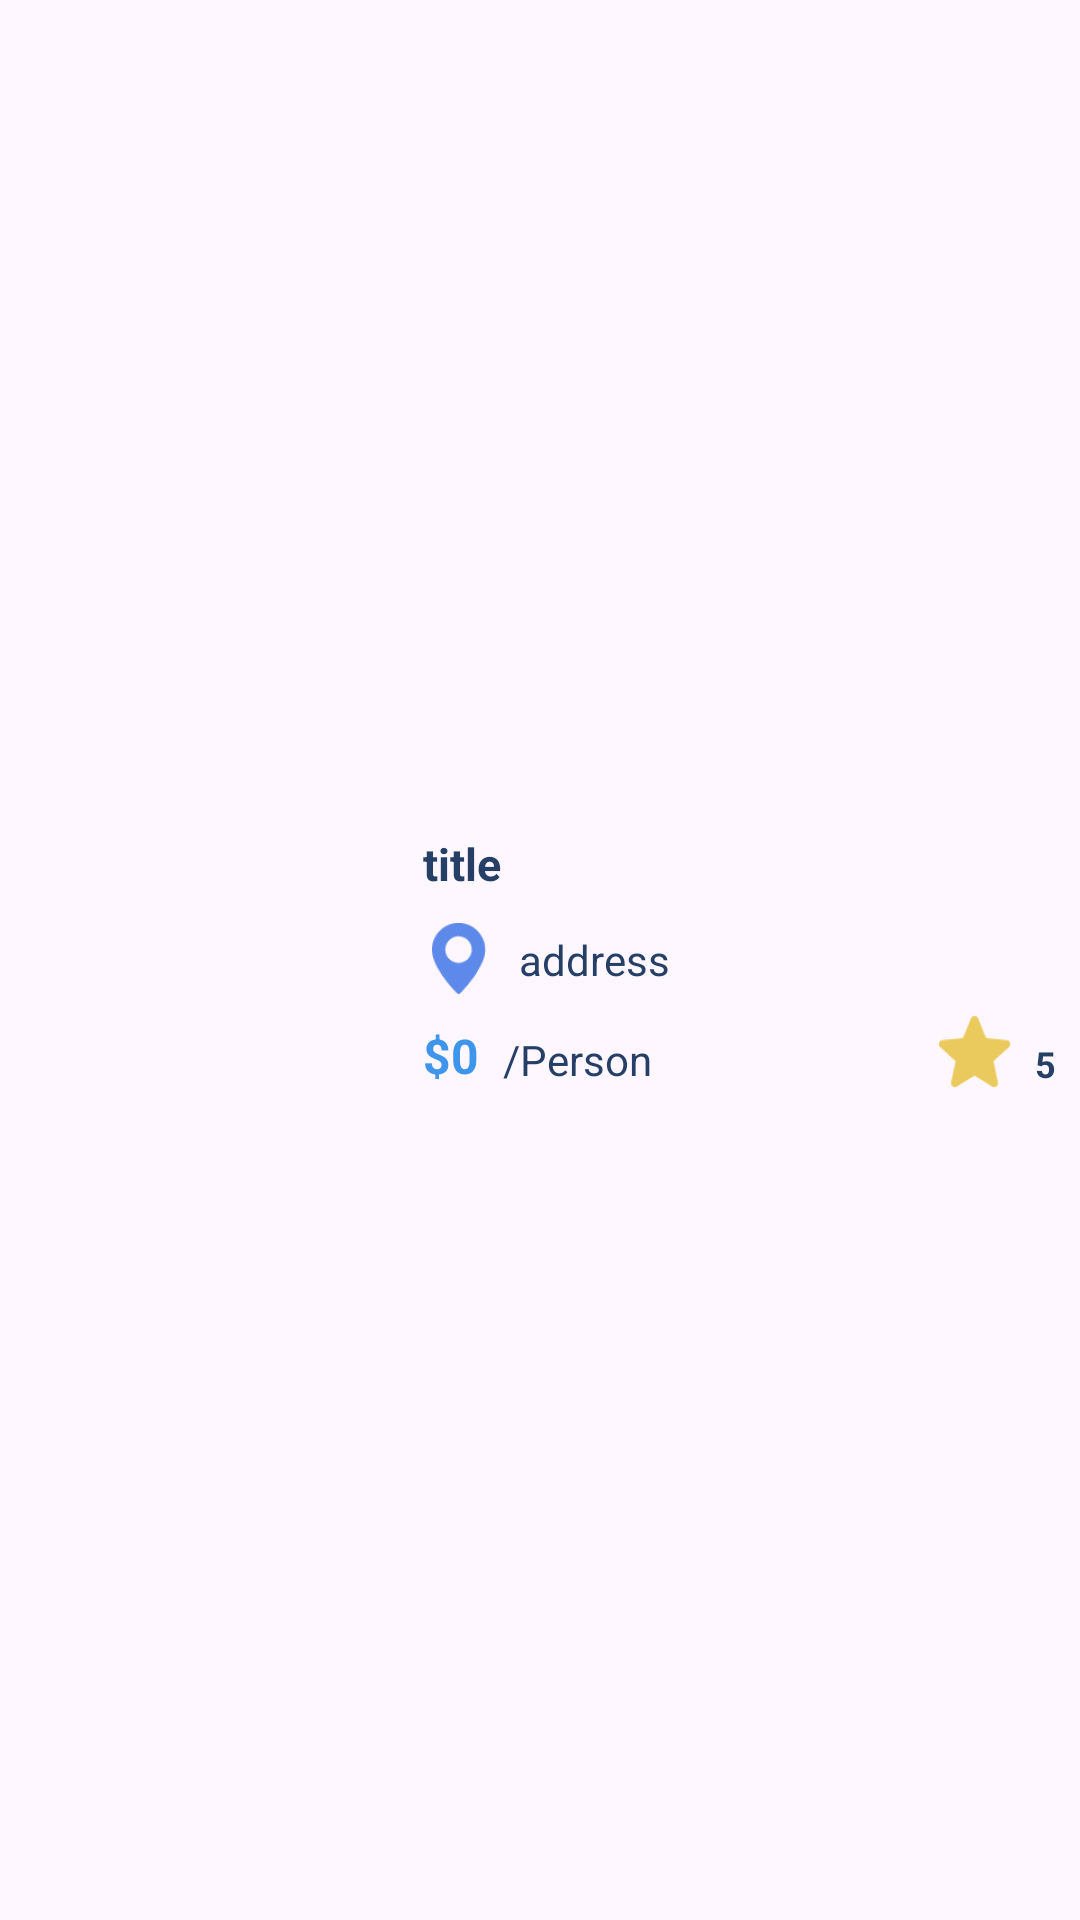

Named icons in this screenshot (1080px×1920px) and their centers, (x=x, y=y):
location: (x=459, y=958)
star: (x=975, y=1052)
